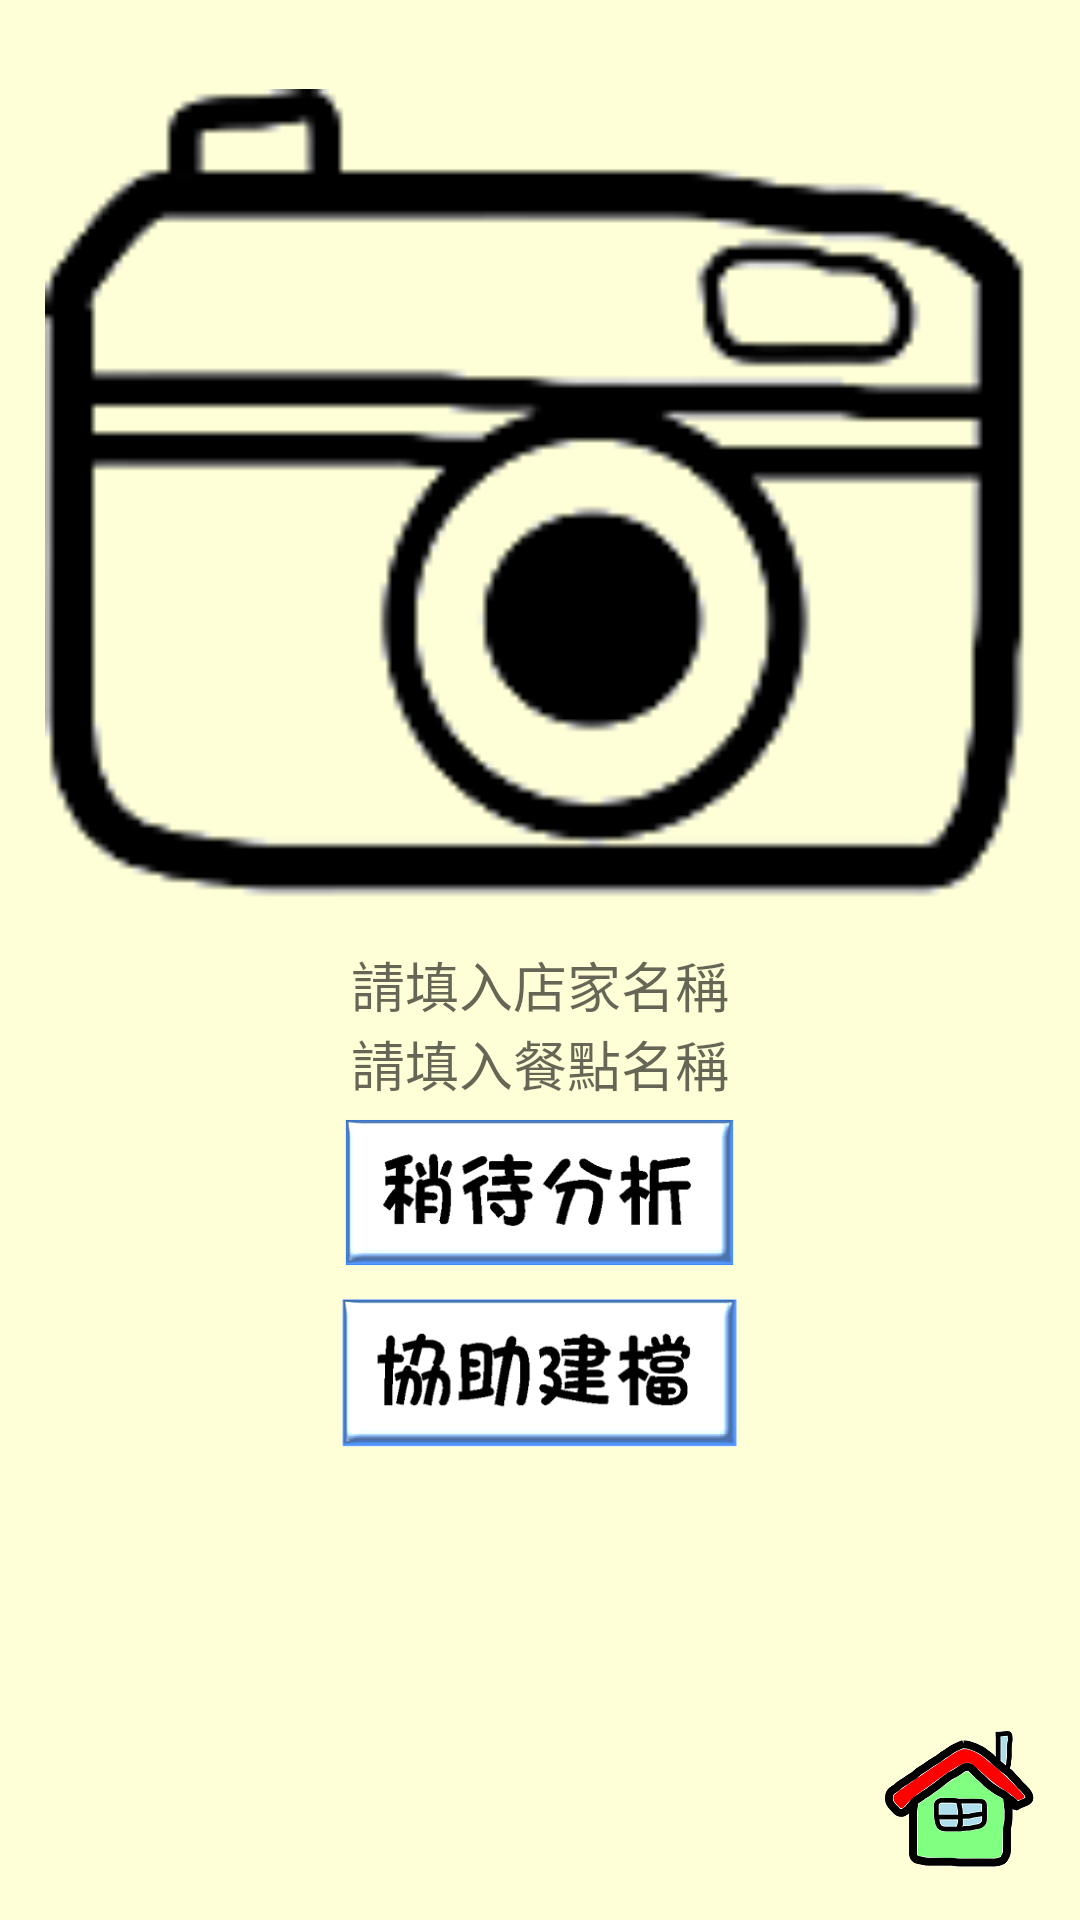

Named icons in this screenshot (1080x1920) and their bounding boxes, (x1, y1, x2, y2):
home: (885, 1731, 1034, 1867)
